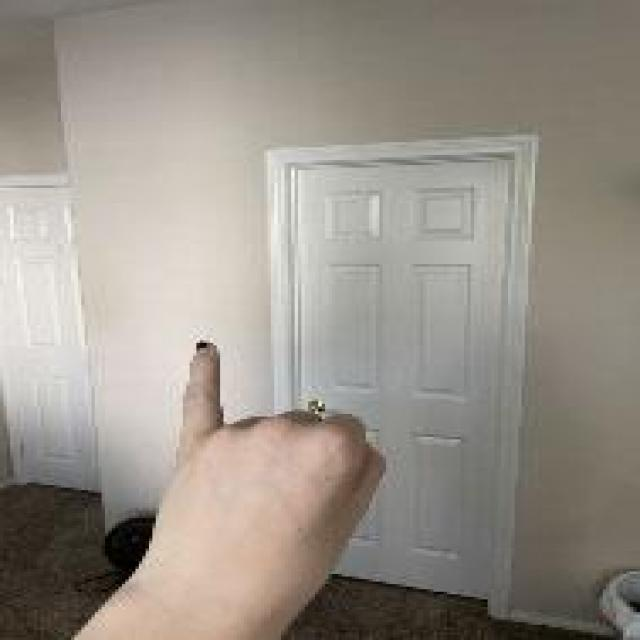I: (161, 336, 391, 611)
